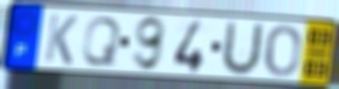4: (172, 18, 207, 75)
9: (129, 16, 169, 73)
K: (42, 12, 80, 67)
O: (264, 24, 303, 79)
Q: (79, 15, 124, 67)
U: (218, 19, 266, 78)
